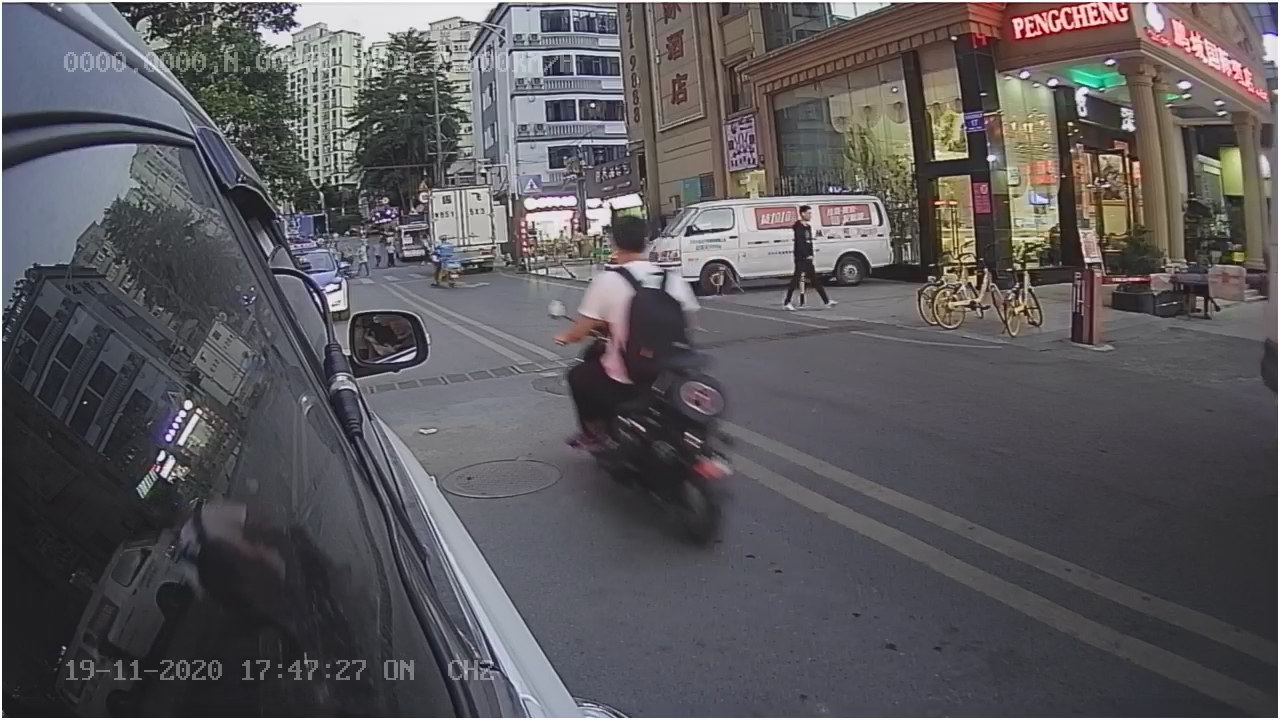person: (582, 221, 688, 384)
